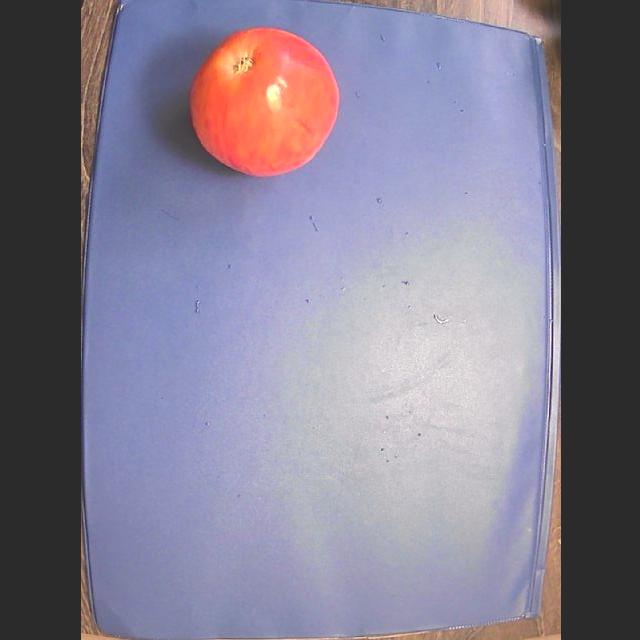manzana: (190, 28, 338, 176)
